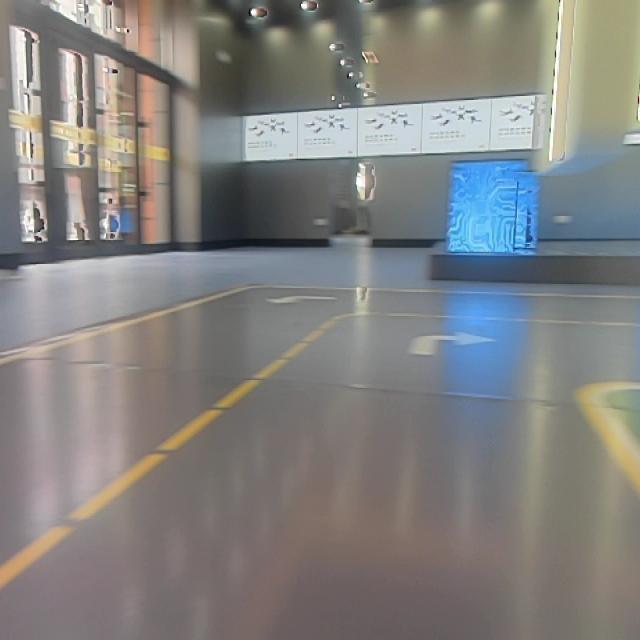left_lane: (3, 318, 332, 587)
right_lane: (0, 286, 246, 370), (574, 398, 640, 497)
